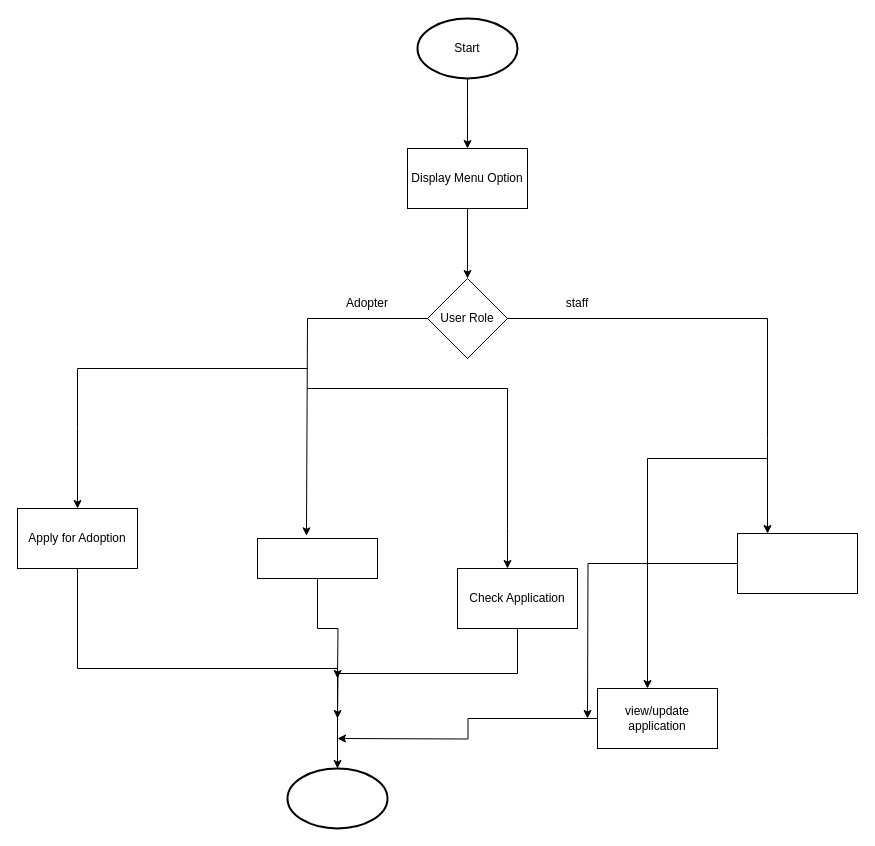
This 875x846 diagram has some shape labels left out. The shapes that lost their labels are listed below. From the top down, each one's box as (x1, y1, x2, y2) in pixels, then its label:
(256, 538, 378, 578): View Pets
(736, 532, 858, 594): Add Pets
(286, 767, 388, 829): End
